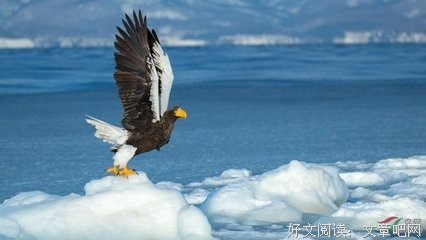bird: (85, 16, 189, 184)
